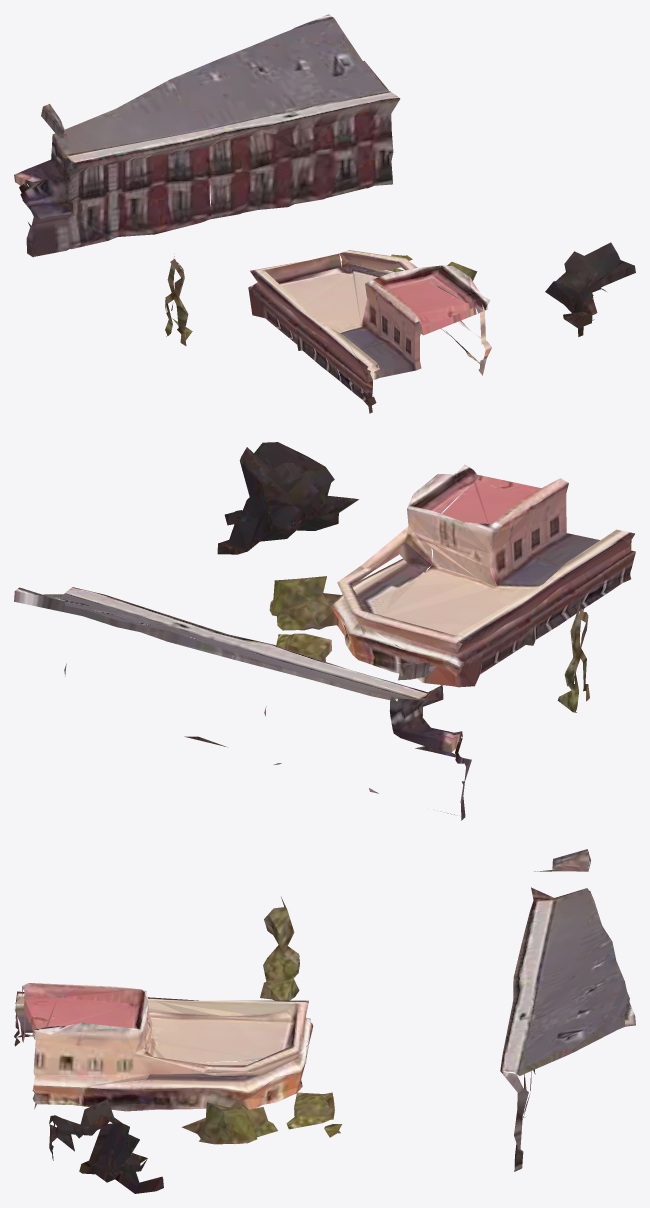
3 renders of one model, top to bottom at view 1: azimuth 30°, elevation 25°; view 2: azimuth 150°, elevation 25°; view 3: azimuth 270°, elevation 25°, orthographic. The views are drawn at different scales.
Visible parts, largest first — view 1: Mesh_0; view 2: Mesh_0; view 3: Mesh_0.
Boxes of the visible parts, x1,y1,x2,y2 form: Mesh_0: (14, 14, 635, 413); Mesh_0: (14, 442, 635, 820); Mesh_0: (14, 849, 635, 1193).
Bounding box in the file's own units: 33.28 × 11.52 × 41.
1 material, 1 textured.
